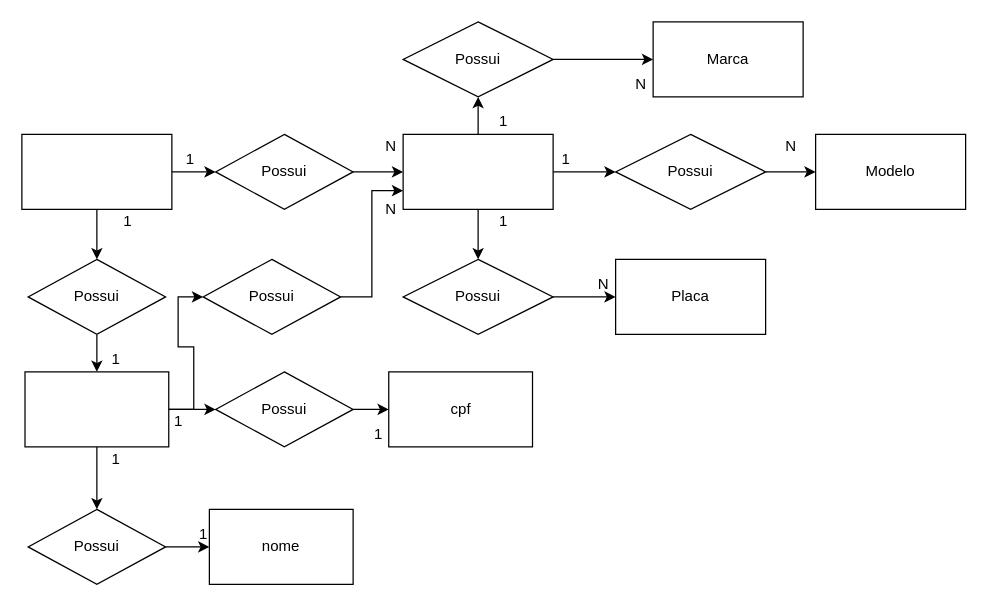
The diagram is 988 pixels wide and 606 high, and some of its shapes have lost their labels. Each missing label, with the box of its shape:
cliente: (24, 371, 169, 447)
Empresa: (21, 133, 172, 209)
Veiculos: (402, 133, 553, 209)
